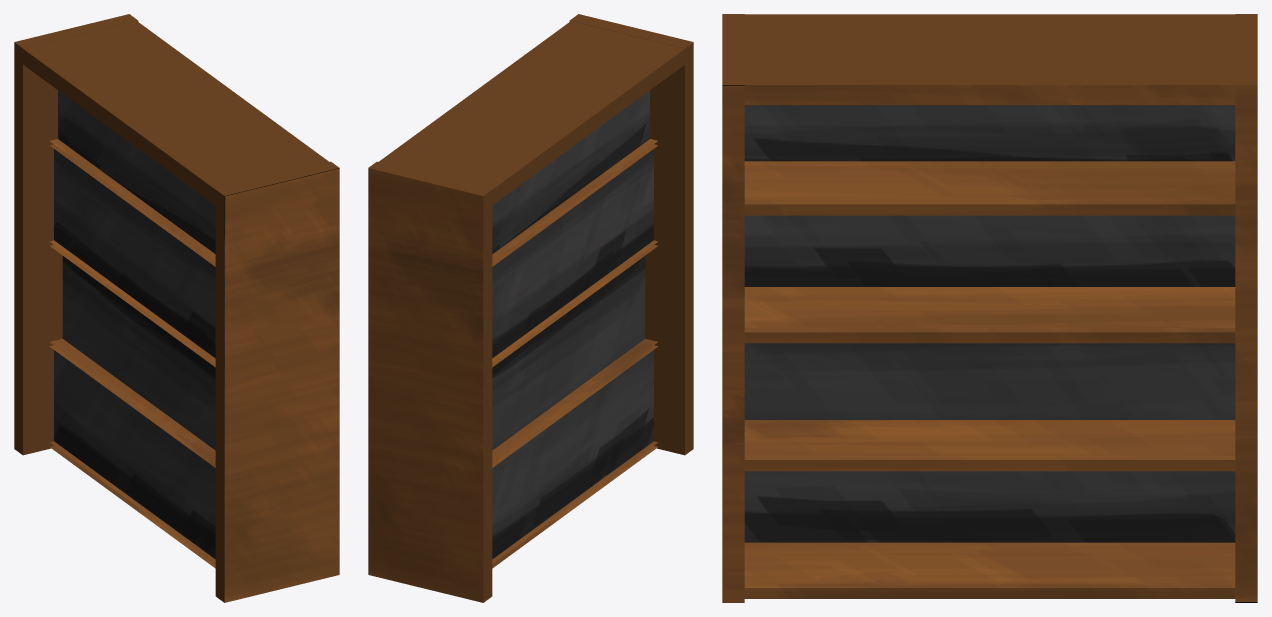
The model's file is Bookshelf_NEW.FBX.
3 views of the same model, side by side, from view 1: azimuth 30°, elevation 25°; view 2: azimuth 150°, elevation 25°; view 3: azimuth 270°, elevation 25° (orthographic). The views are drawn at different scales.
Parts seen in each view (by area): view 1: Bookshelf; view 2: Bookshelf; view 3: Bookshelf.
Part boxes in pixels (left/top/right/bottom): Bookshelf: left=14, top=14, right=339, bottom=602; Bookshelf: left=368, top=14, right=693, bottom=602; Bookshelf: left=722, top=14, right=1257, bottom=602.
Bounding box in the file's own units: 0.6808 × 2.3 × 2.15.
